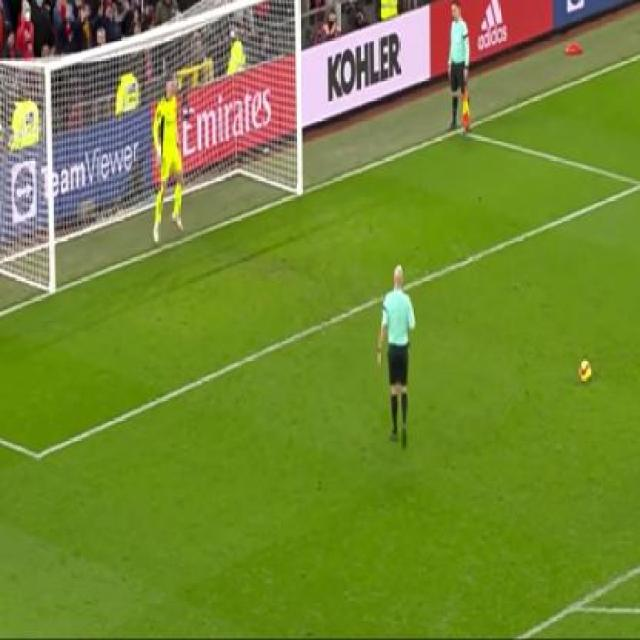arbitre: (374, 263, 415, 448), (440, 2, 478, 138)
ball: (568, 357, 600, 388)
cage: (0, 0, 303, 295)
gardien: (140, 63, 198, 257)
